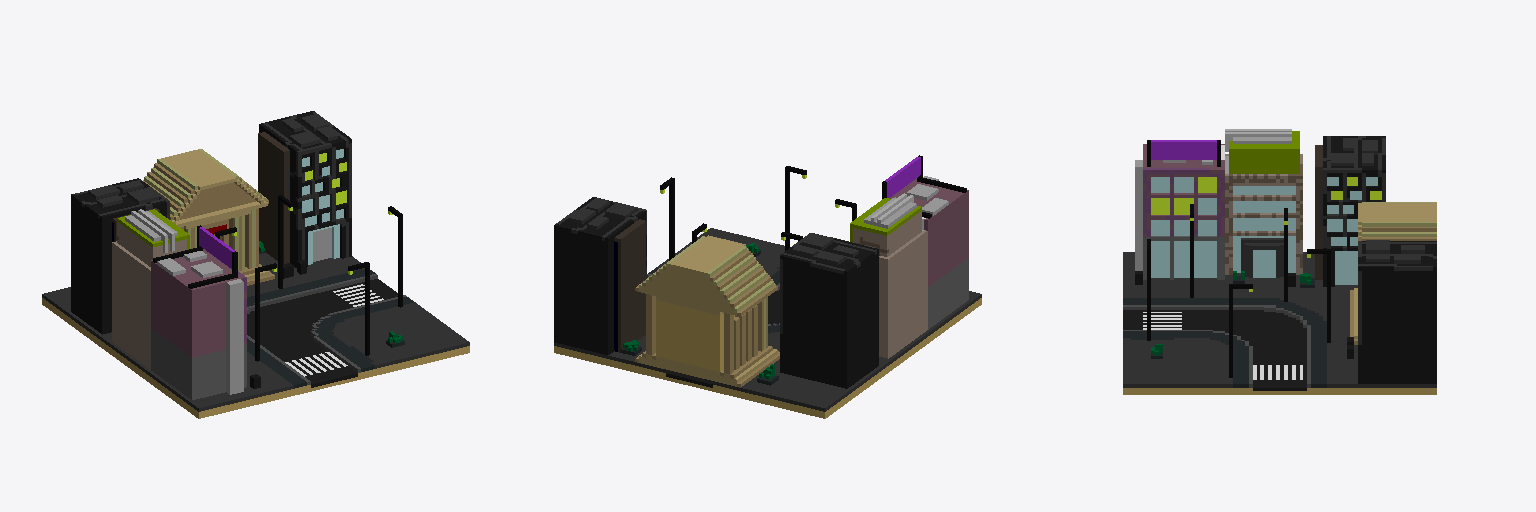
3 renders of one model, left to right at view 1: azimuth 30°, elevation 25°; view 2: azimuth 150°, elevation 25°; view 3: azimuth 270°, elevation 25°, orthographic.
Parts seen in each view (by area): view 1: citySharpCorner; view 2: citySharpCorner; view 3: citySharpCorner.
Part boxes in pixels (x1,y1,x2,y2): citySharpCorner: (42, 111, 469, 418); citySharpCorner: (554, 155, 981, 418); citySharpCorner: (1123, 129, 1436, 394).
Size of the model in its own units: 80 by 41 by 80.
Materials: 1 (1 with a texture image).